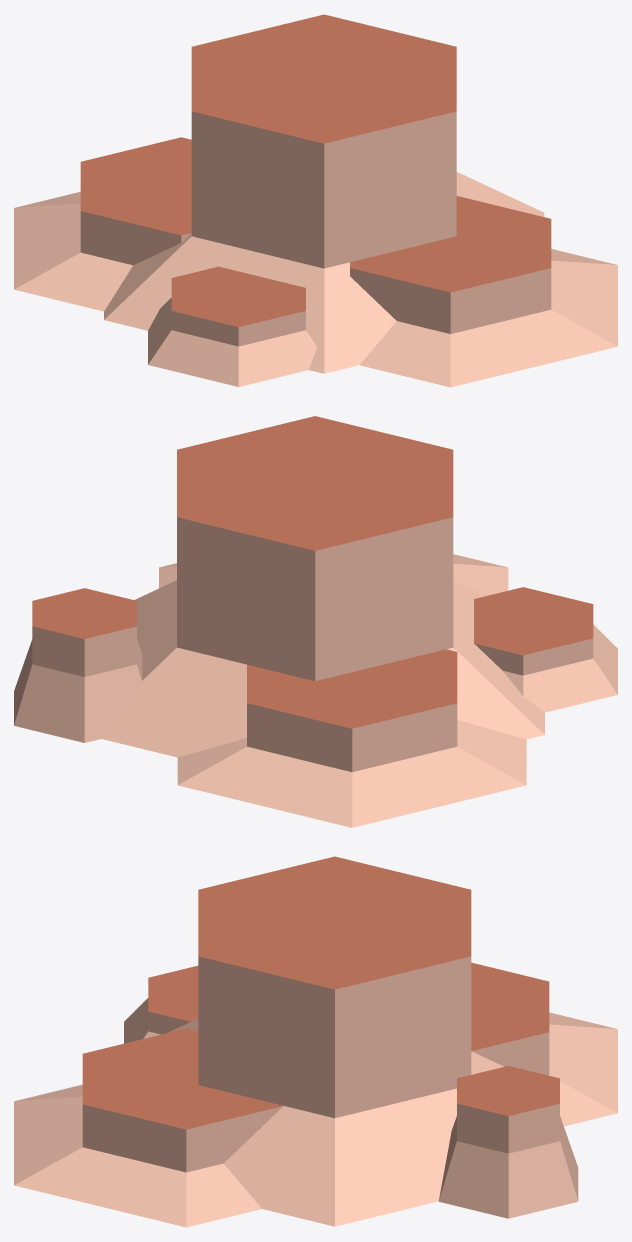
File: rock.glb
3 views of the same model, one above another, from view 1: azimuth 30°, elevation 25°; view 2: azimuth 150°, elevation 25°; view 3: azimuth 270°, elevation 25° (orthographic). The views are drawn at different scales.
Parts seen in each view (by area): view 1: rock; view 2: rock; view 3: rock.
Boxes of the visible parts, x1,y1,x2,y2 form: rock: (14, 14, 617, 387); rock: (14, 416, 617, 827); rock: (14, 856, 617, 1227).
Bounding box in the file's own units: 1.04 × 0.39 × 1.11.
